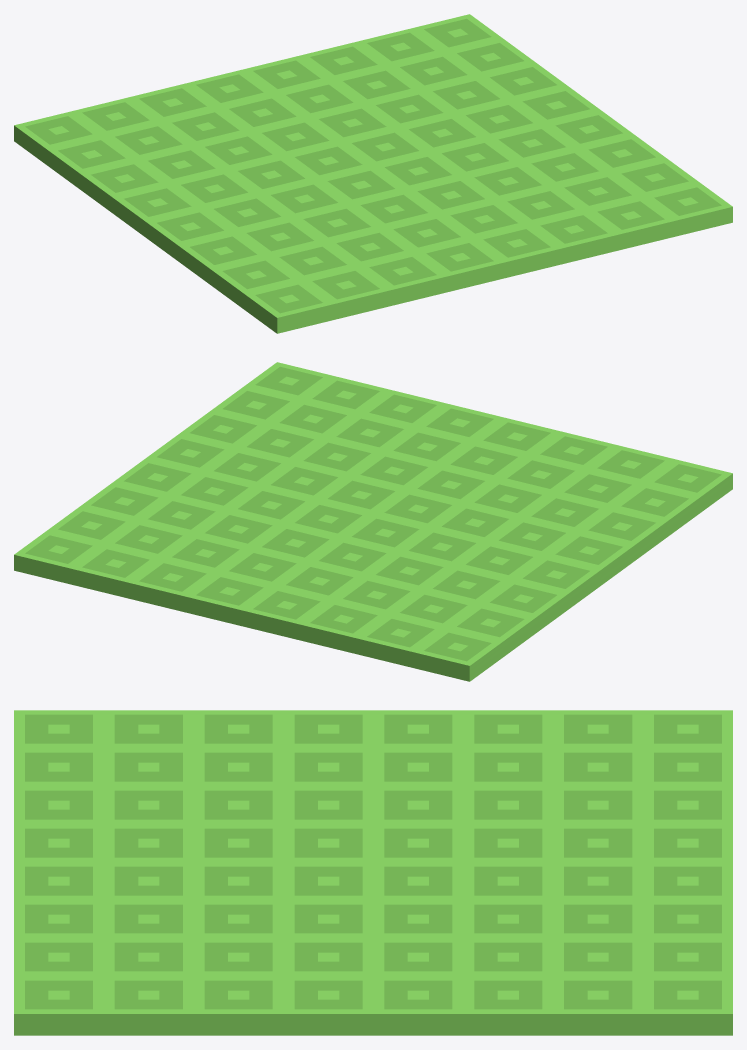
The model's file is RoomFloor.fbx.
The picture shows the model from 3 angles, top to bottom: view 1: azimuth 30°, elevation 25°; view 2: azimuth 150°, elevation 25°; view 3: azimuth 270°, elevation 25°; orthographic projection. The views are drawn at different scales.
Parts seen in each view (by area): view 1: RoomFloor; view 2: RoomFloor; view 3: RoomFloor.
Part boxes in pixels (x1,y1,x2,y2): RoomFloor: (14, 14, 732, 333); RoomFloor: (14, 362, 732, 681); RoomFloor: (14, 710, 732, 1035).
Size of the model in its own units: 300 by 10 by 300.
